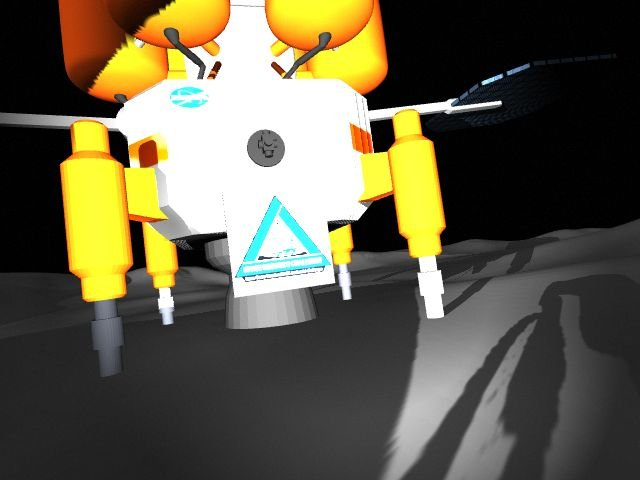basemarker: (234, 195, 333, 284)
